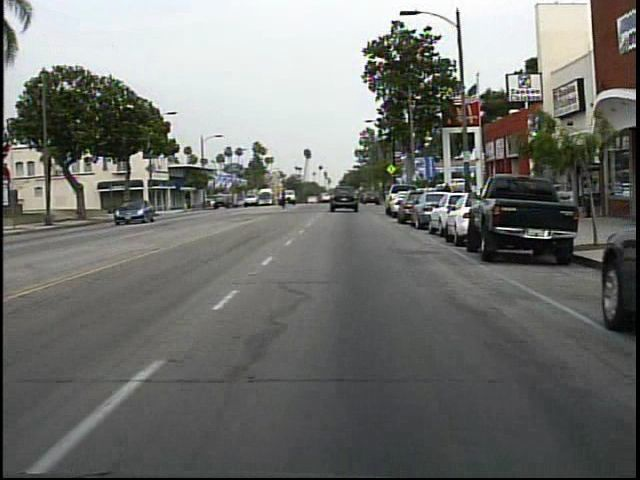person: (438, 178, 458, 216), (277, 185, 292, 214)
